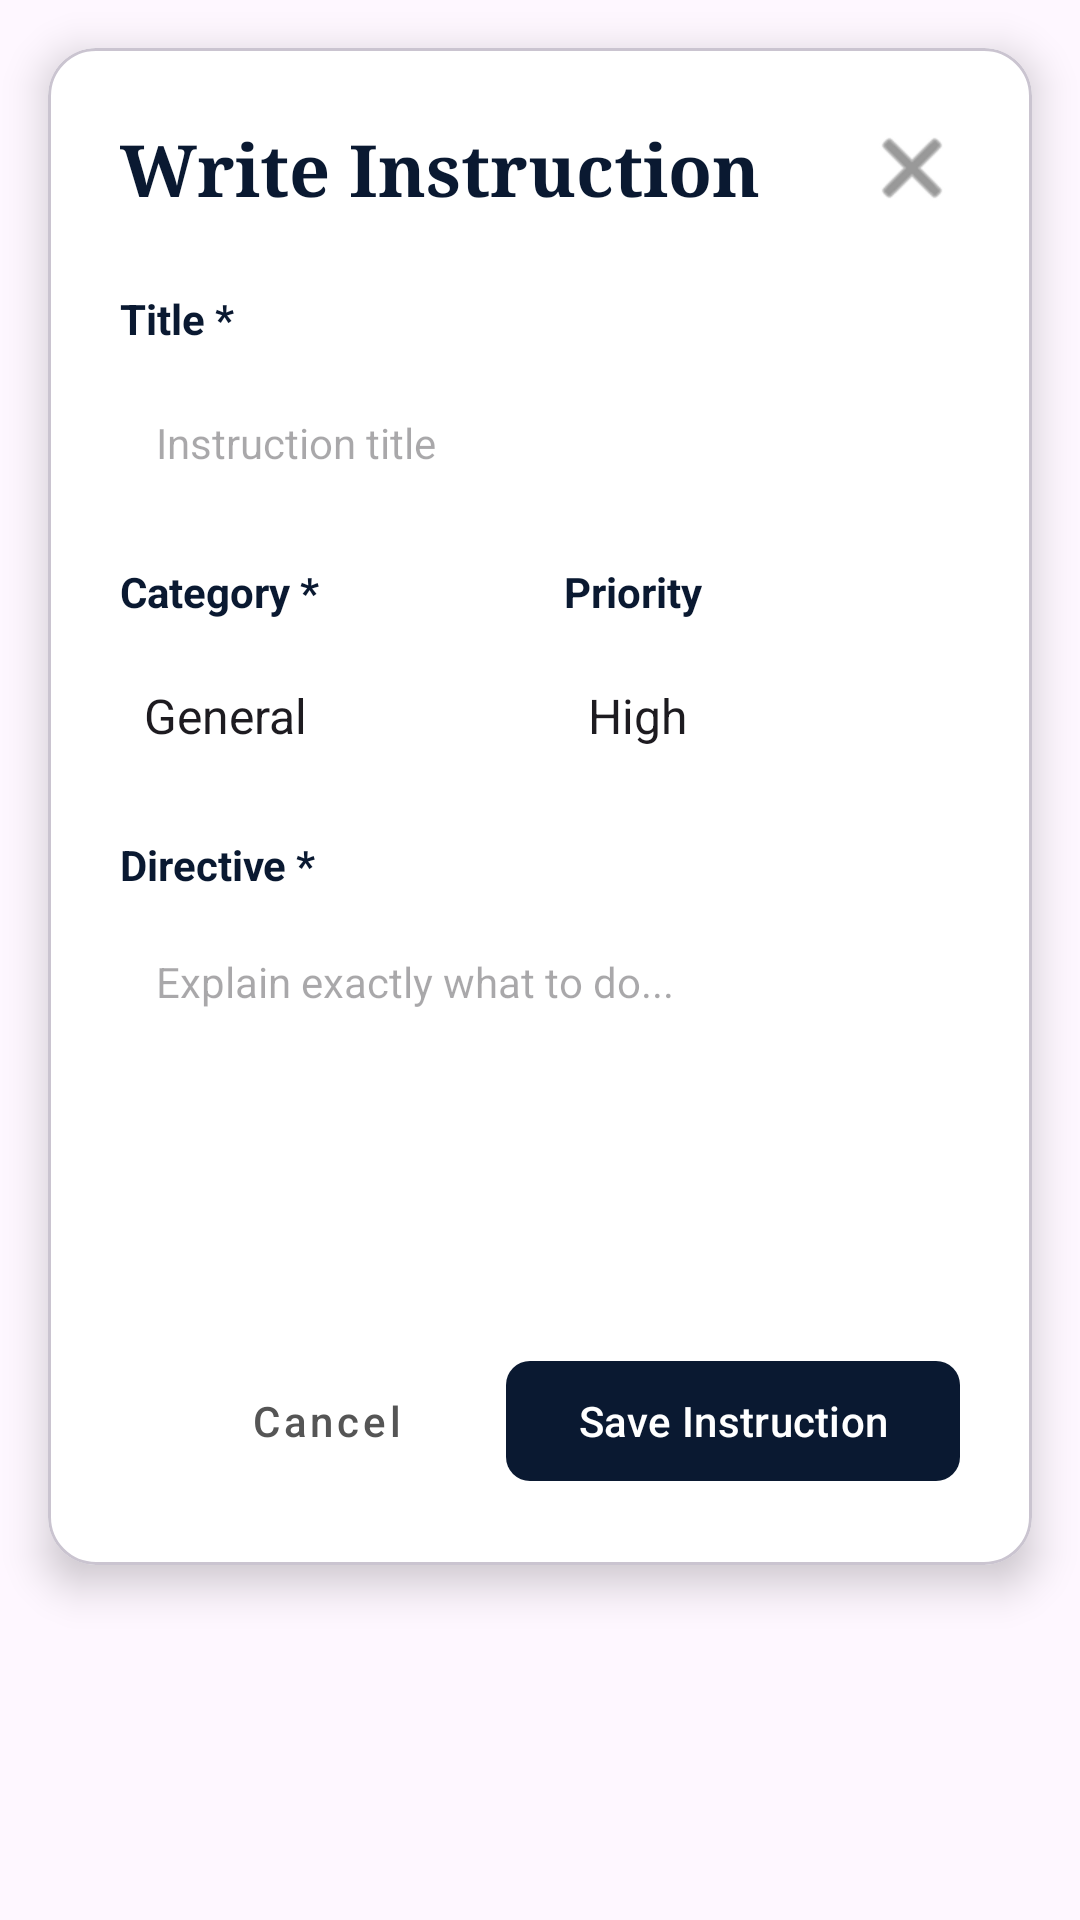

Screen size 1080 × 1920. Icon name, then its center in pixels as (x=x, y=y):
close clear cancel: (x=912, y=168)
